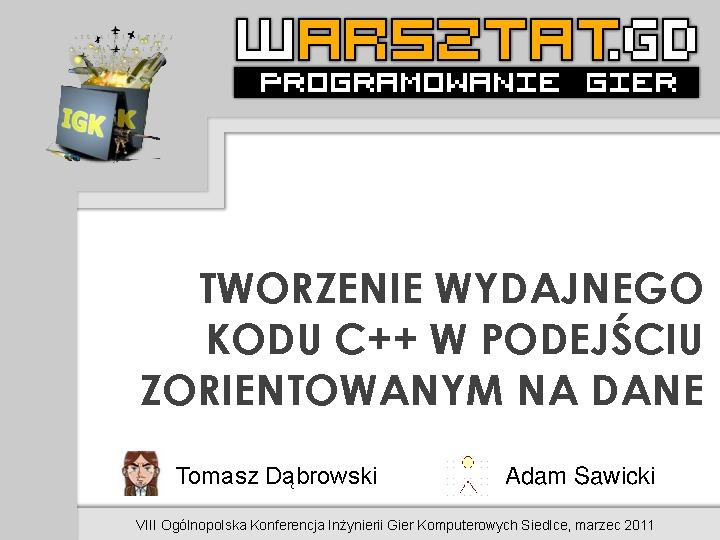subtitle: (111, 254, 716, 425), (118, 443, 677, 540)
title: (223, 5, 714, 114)
